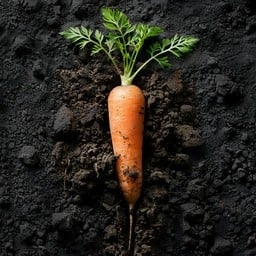carrot: (62, 5, 196, 240)
